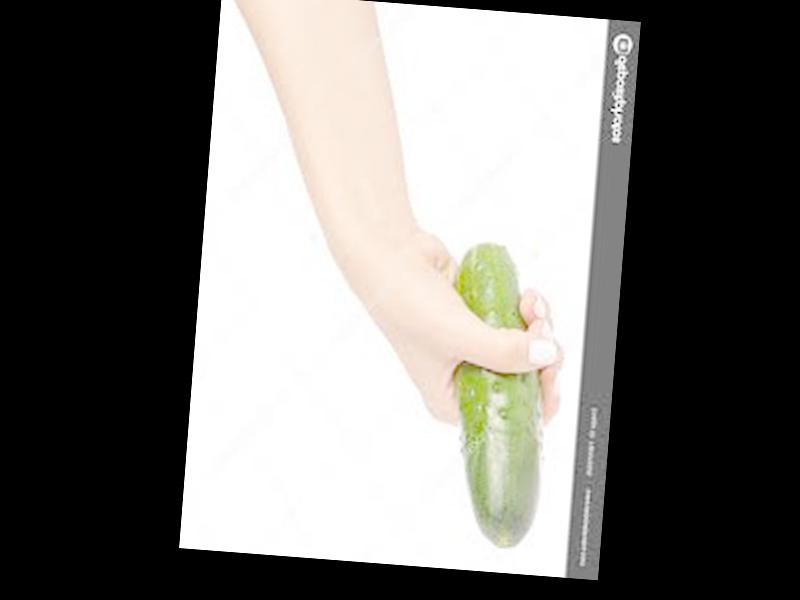Cucumber: (436, 242, 558, 553)
